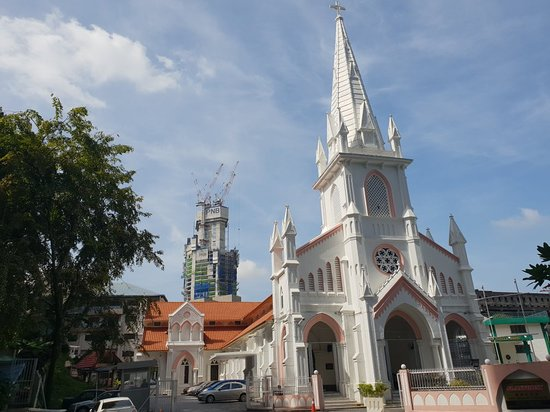Church: (242, 2, 482, 391)
